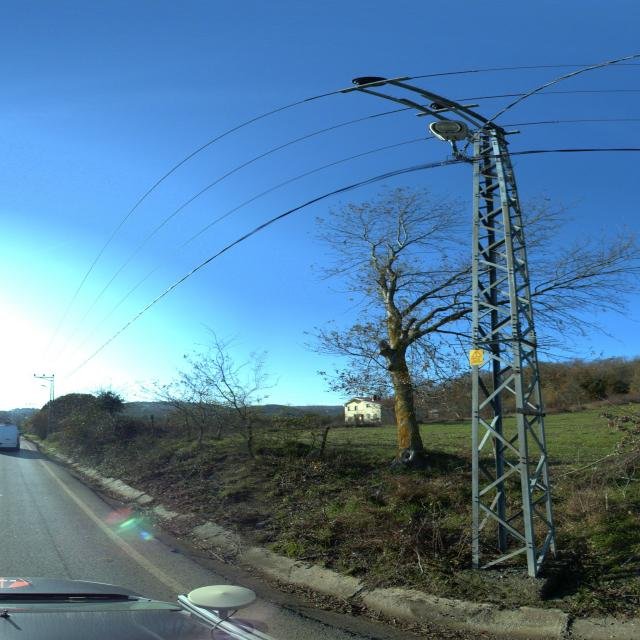Utility Pole Information Plate: (470, 349, 483, 365)
